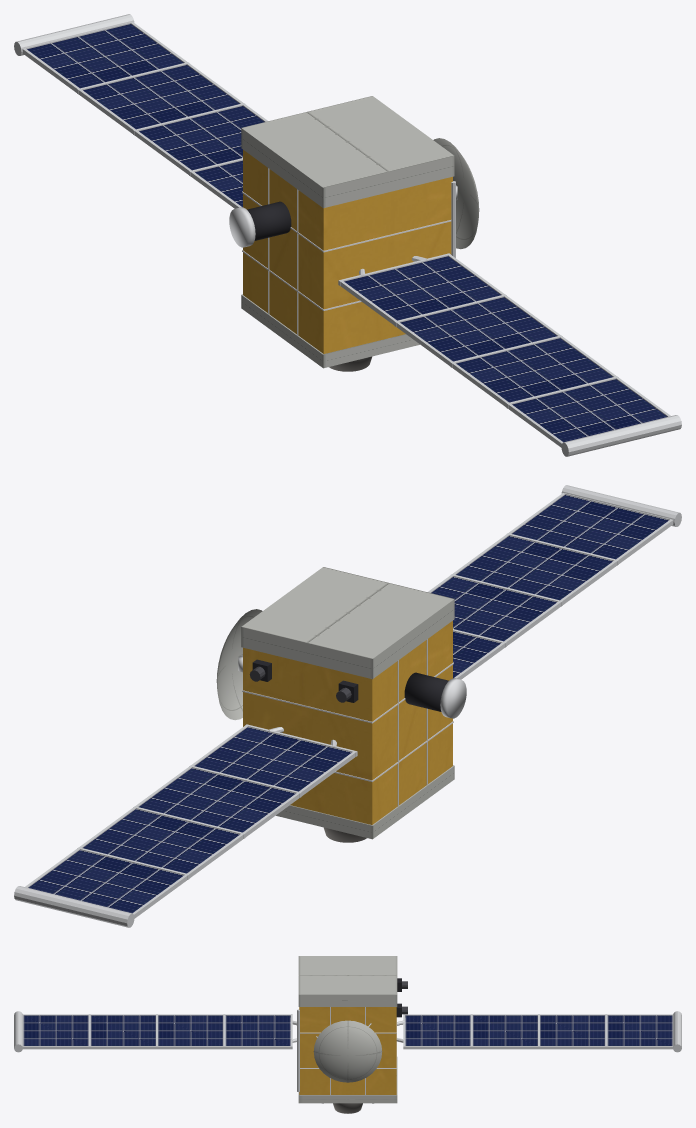
File: impactor.glb
The picture shows the model from 3 angles, top to bottom: view 1: azimuth 30°, elevation 25°; view 2: azimuth 150°, elevation 25°; view 3: azimuth 270°, elevation 25°; orthographic projection. The views are drawn at different scales.
Visible parts, largest first — view 1: Cube, Cube.005, Cube.013, Cube.024, Cube.026, Cube.009, Cube.011, Cube.015, Cube.022, Cube.006, Sphere, Cylinder.011 (+7 smaller); view 2: Cube, Cube.005, Cube.013, Cube.015, Cube.024, Cube.020, Cube.022, Cube.026, Cube.011, Cube.006, Sphere, Cylinder.015 (+7 smaller); view 3: Cube, Cube.005, Sphere, Cube.009, Cube.015, Cube.020, Cube.026, Cube.011, Cube.013, Cube.022, Cube.024, Cube.019 (+7 smaller).
Part boxes in pixels (x1=…): Cube: x1=243, y1=150, x2=452, y2=353; Cube.005: x1=241, y1=96, x2=454, y2=208; Cube.013: x1=456, y1=338, x2=612, y2=402; Cube.024: x1=83, y1=65, x2=239, y2=129; Cube.026: x1=27, y1=24, x2=183, y2=88; Cube.009: x1=344, y1=256, x2=500, y2=320; Cube.011: x1=400, y1=297, x2=556, y2=361; Cube.015: x1=512, y1=379, x2=667, y2=442; Cube.022: x1=139, y1=106, x2=264, y2=170; Cube.006: x1=241, y1=294, x2=419, y2=368; Sphere: x1=433, y1=138, x2=479, y2=249; Cylinder.011: x1=561, y1=415, x2=681, y2=456; Cube: x1=243, y1=621, x2=452, y2=824; Cube.005: x1=241, y1=567, x2=454, y2=679; Cube.013: x1=456, y1=536, x2=612, y2=600; Cube.015: x1=512, y1=495, x2=668, y2=559; Cube.024: x1=83, y1=809, x2=239, y2=873; Cube.020: x1=195, y1=727, x2=351, y2=791; Cube.022: x1=139, y1=768, x2=295, y2=832; Cube.026: x1=28, y1=850, x2=183, y2=913; Cube.011: x1=431, y1=577, x2=556, y2=641; Cube.006: x1=276, y1=765, x2=454, y2=839; Sphere: x1=216, y1=609, x2=262, y2=720; Cylinder.015: x1=14, y1=886, x2=134, y2=927; Cube: x1=299, y1=1007, x2=396, y2=1094; Cube.005: x1=298, y1=956, x2=397, y2=1006; Sphere: x1=313, y1=1020, x2=382, y2=1082; Cube.009: x1=225, y1=1015, x2=290, y2=1045; Cube.015: x1=23, y1=1015, x2=88, y2=1045; Cube.020: x1=405, y1=1015, x2=470, y2=1045; Cube.026: x1=607, y1=1015, x2=672, y2=1045; Cube.011: x1=158, y1=1015, x2=223, y2=1045; Cube.013: x1=90, y1=1015, x2=155, y2=1045; Cube.022: x1=472, y1=1015, x2=537, y2=1045; Cube.024: x1=540, y1=1015, x2=605, y2=1045; Cube.019: x1=23, y1=1046, x2=291, y2=1049.
Size of the model in its own units: 2.09 by 1.95 by 8.92.
8 materials, 3 textured.
